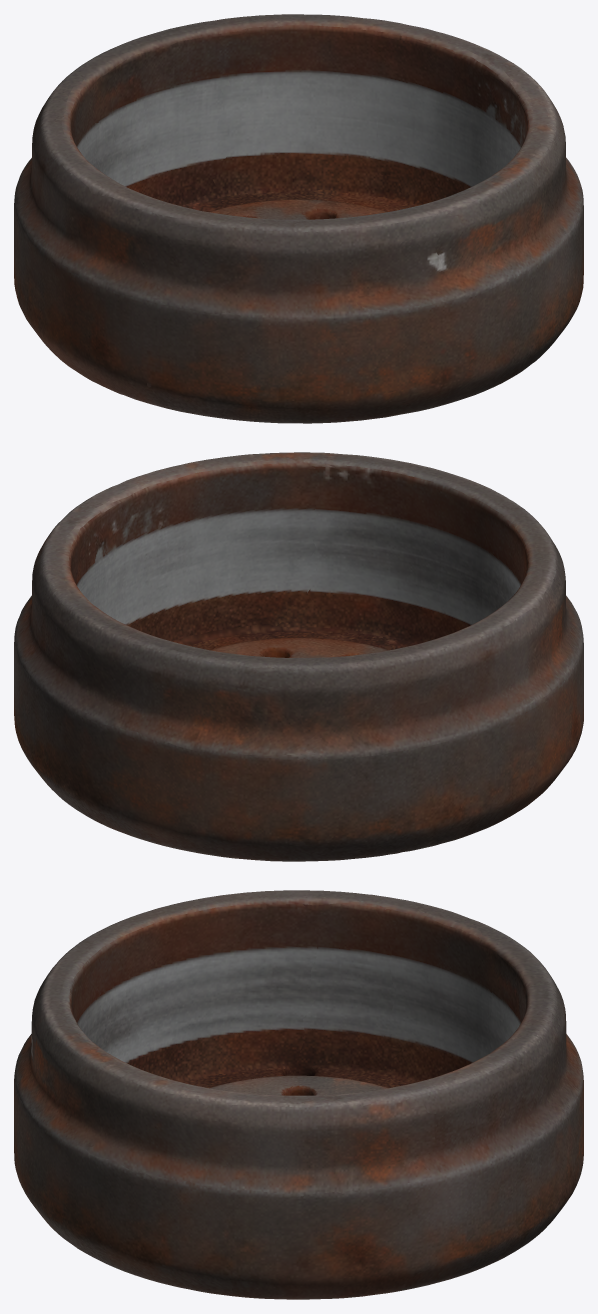
File: raw.glb
The picture shows the model from 3 angles, top to bottom: view 1: azimuth 30°, elevation 25°; view 2: azimuth 150°, elevation 25°; view 3: azimuth 270°, elevation 25°; orthographic projection.
Bounding box in the file's own units: 1.01 × 0.3814 × 1.01.
1 material, 1 textured.
